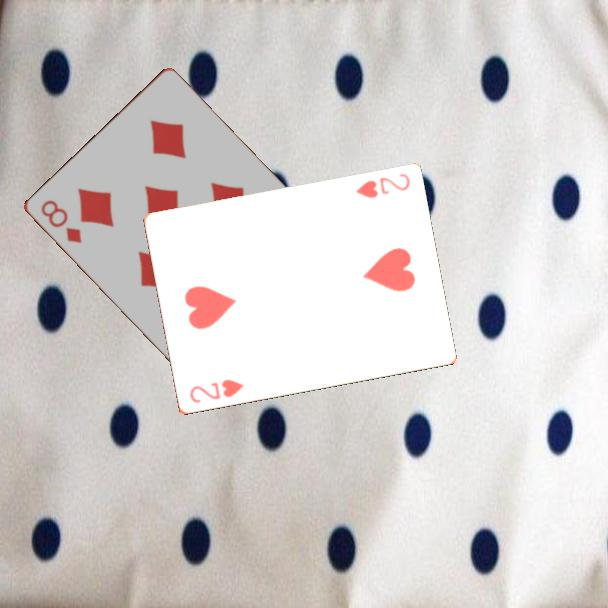d08: (37, 196, 84, 246)
h02: (352, 170, 413, 202), (186, 376, 247, 406)
